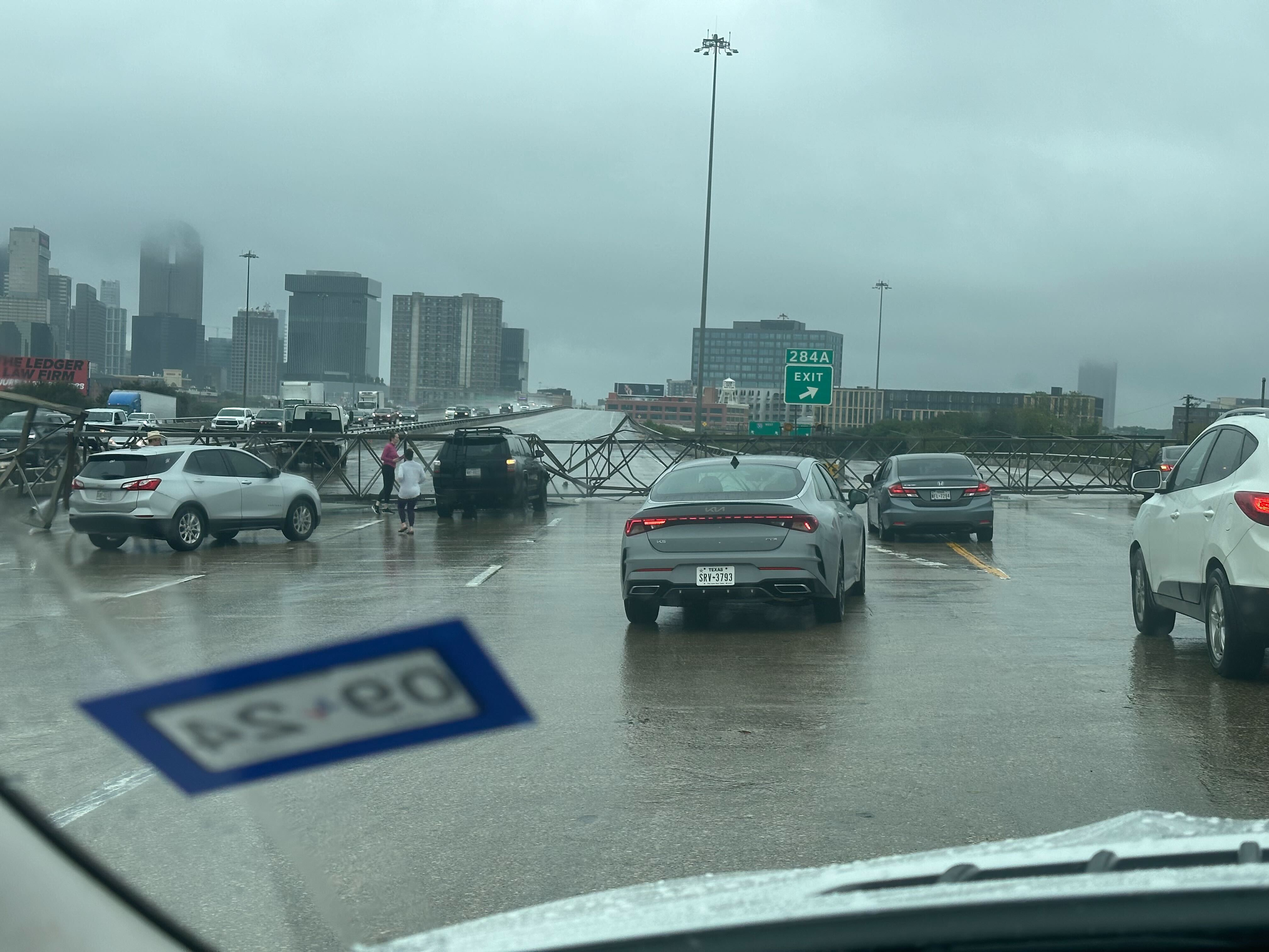Car: (615, 453, 878, 625), (1124, 405, 1269, 693), (60, 445, 339, 554), (856, 447, 1020, 559), (423, 426, 559, 527), (203, 401, 254, 433), (74, 405, 124, 434), (127, 410, 161, 433)
Person: (392, 444, 433, 539), (374, 433, 403, 517)
